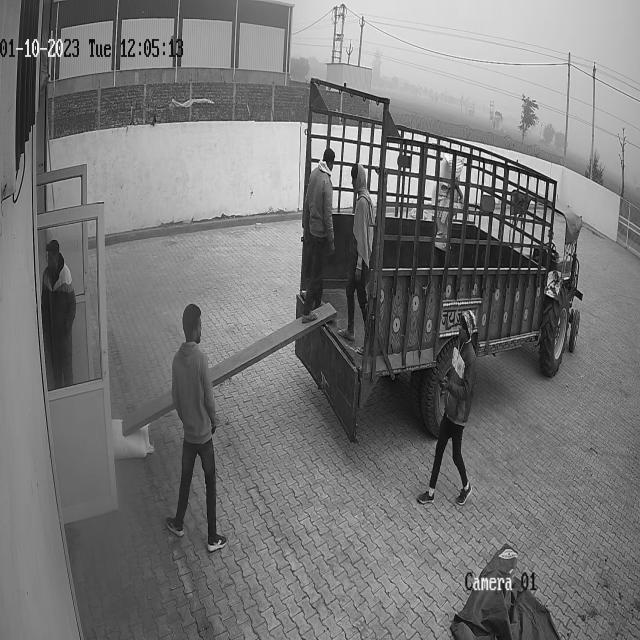sack: (111, 417, 153, 458)
